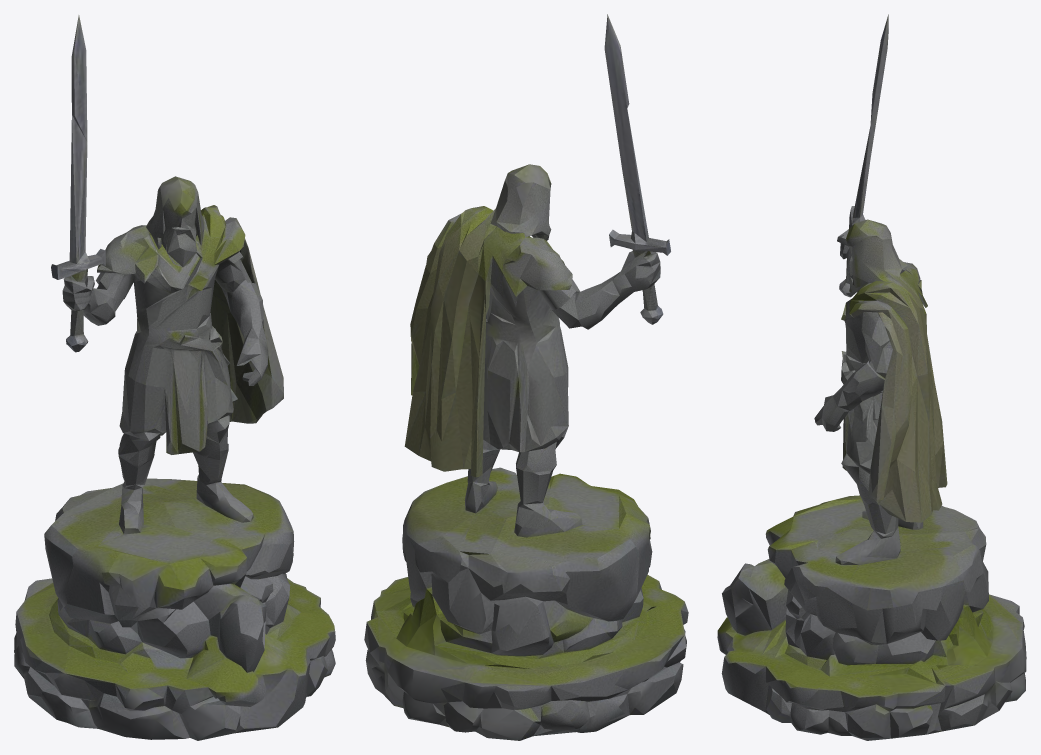
File: stone_statue.glb
3 renders of one model, left to right at view 1: azimuth 30°, elevation 25°; view 2: azimuth 150°, elevation 25°; view 3: azimuth 270°, elevation 25°, orthographic. The views are drawn at different scales.
Size of the model in its own units: 0.8224 by 1.9 by 0.8479.
1 material, 1 textured.
